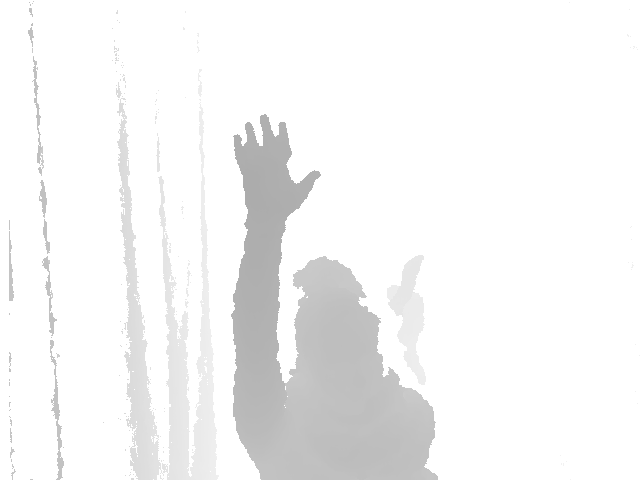hand: (227, 110, 324, 222)
head: (285, 256, 387, 390)
person: (225, 109, 443, 480)
